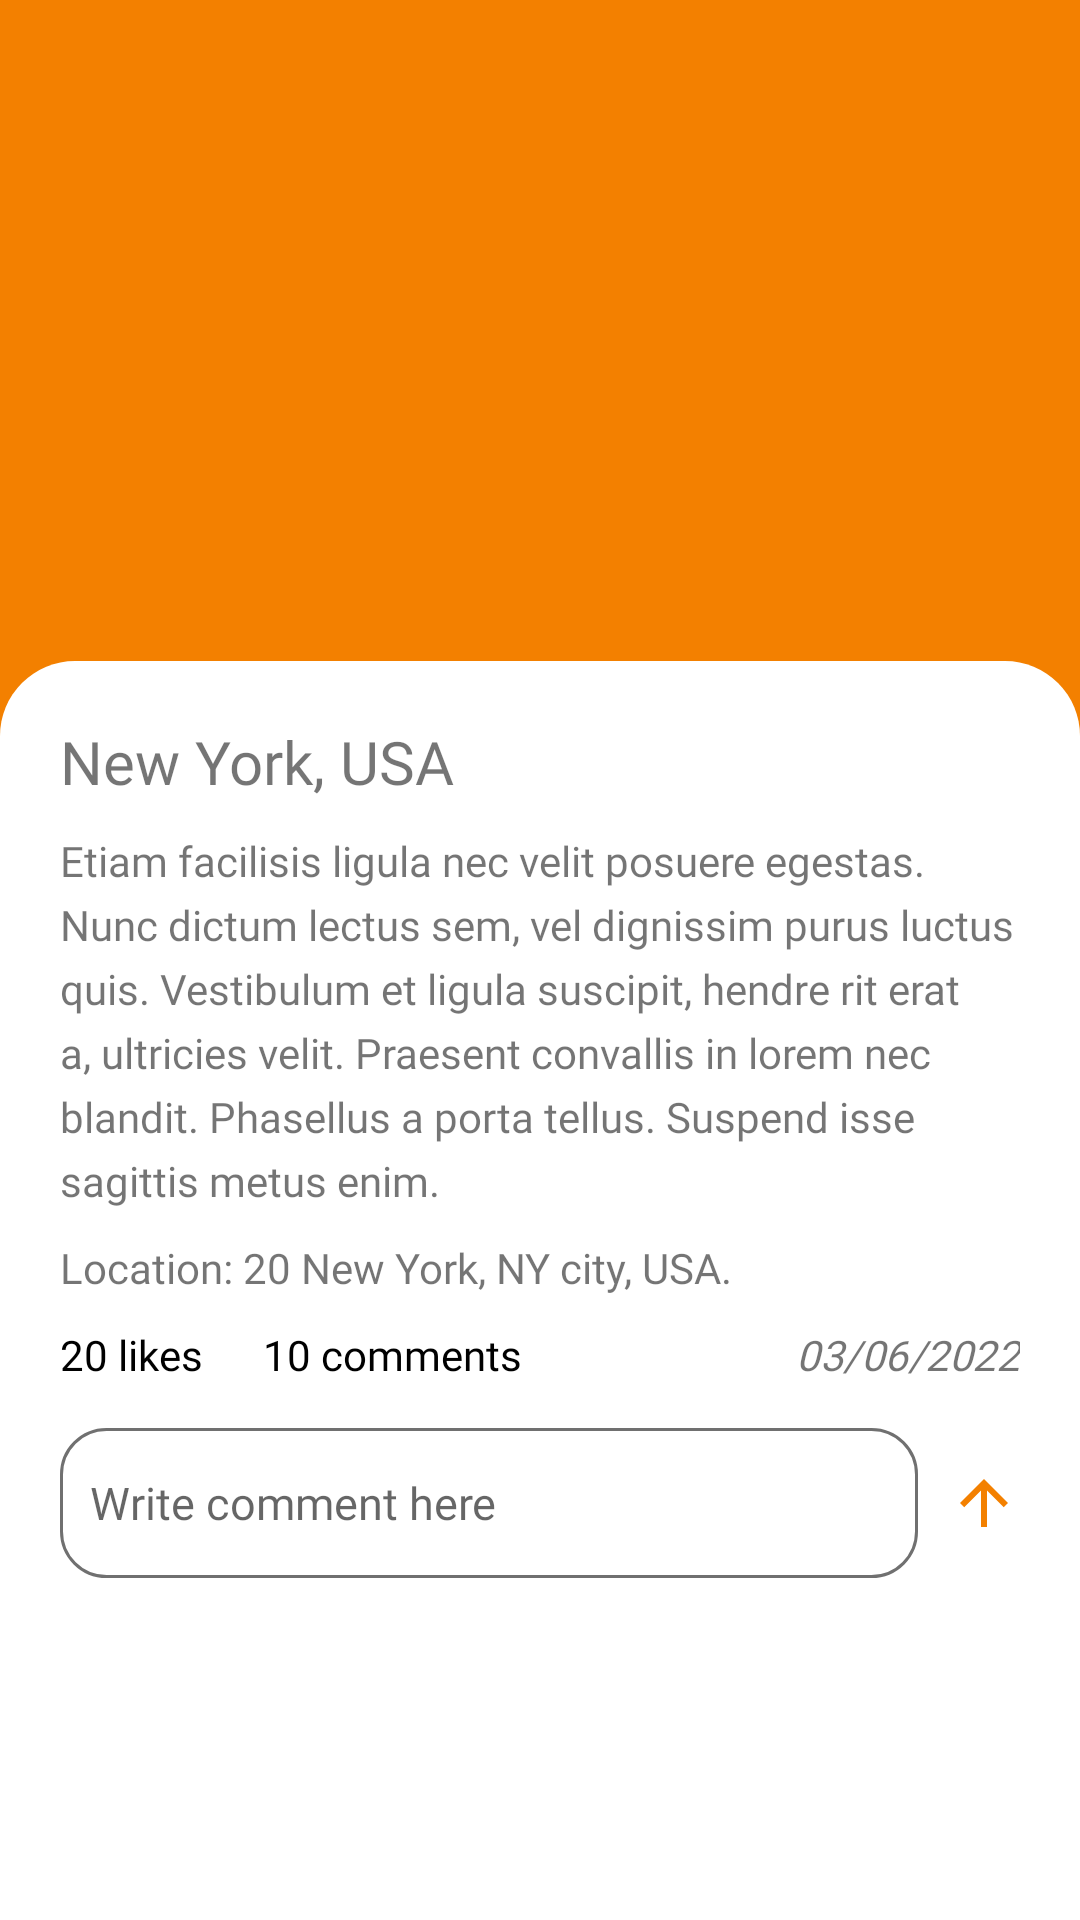

Locate icon controls on the screen. Image size 1080w x 1920h, boxes as [x1, y1, x2, y2].
arrow up: [960, 1479, 1008, 1527]
